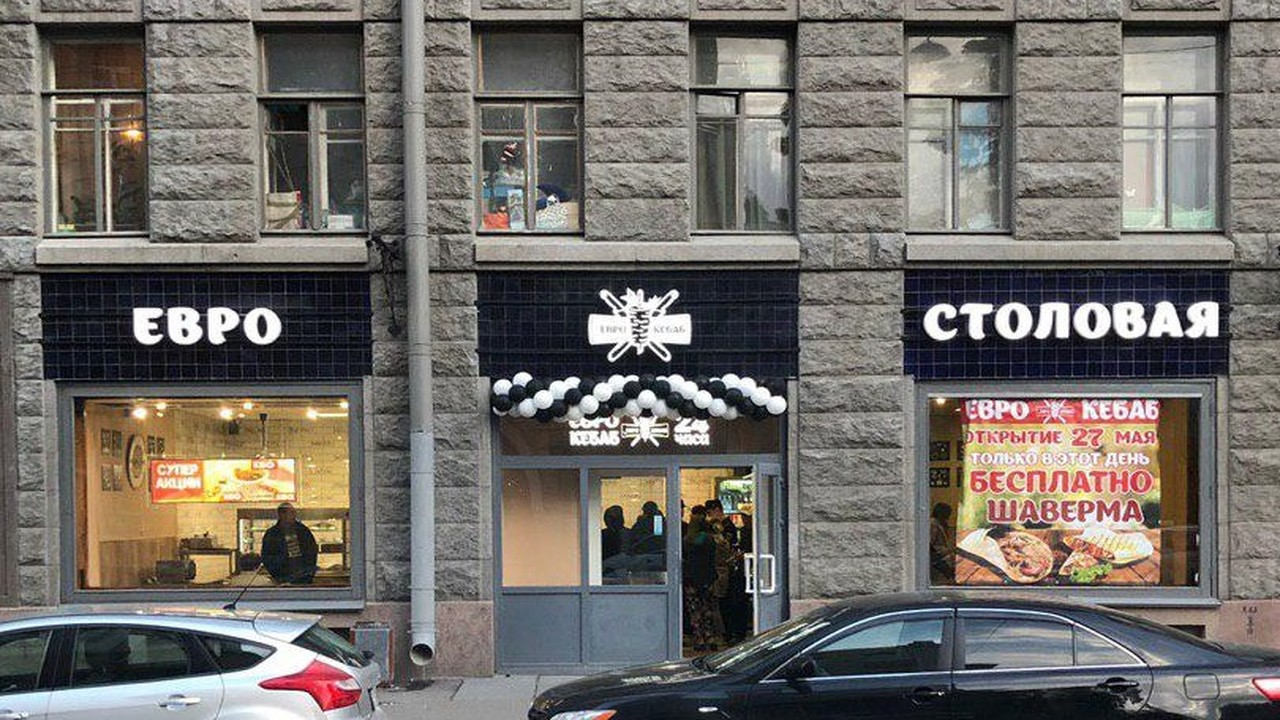signboard: (922, 300, 1217, 342), (587, 286, 693, 362), (130, 307, 280, 344)
window: (54, 391, 357, 595), (918, 387, 1207, 597), (472, 22, 583, 231), (691, 20, 797, 232), (1121, 22, 1226, 234), (257, 25, 365, 231), (905, 19, 1007, 232), (47, 30, 142, 234)
